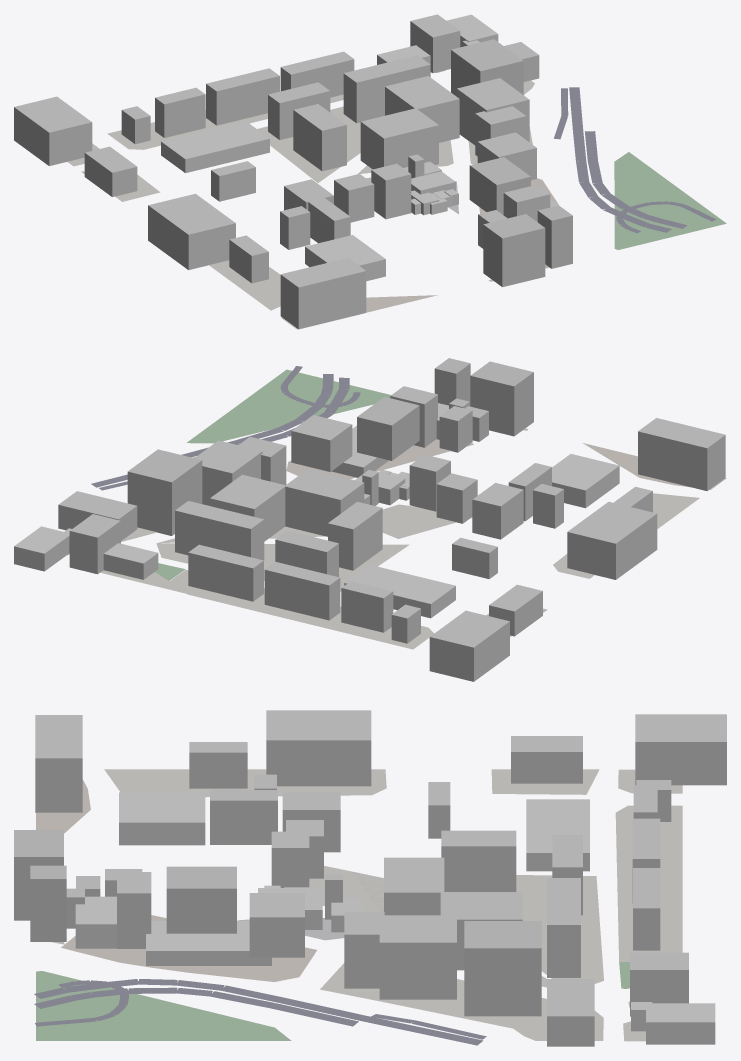
Rendered from 126_110_mid.glb.
3 renders of one model, top to bottom at view 1: azimuth 30°, elevation 25°; view 2: azimuth 150°, elevation 25°; view 3: azimuth 270°, elevation 25°, orthographic. The views are drawn at different scales.
Size of the model in its own units: 549 by 59.55 by 551.
